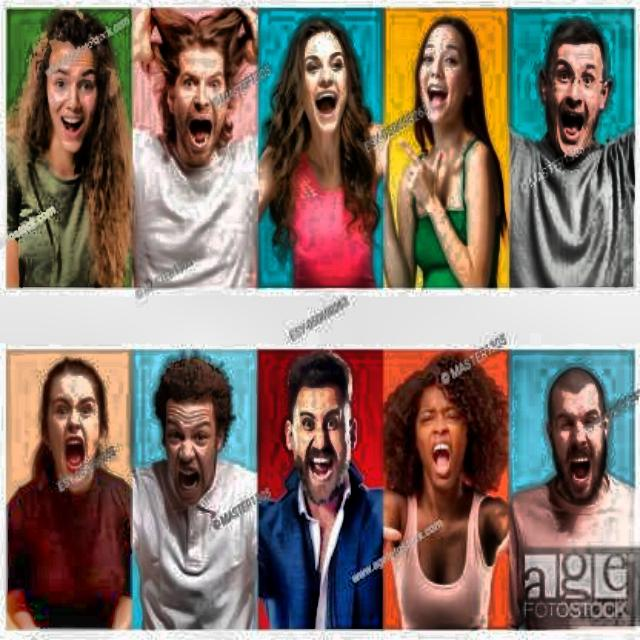angry: (387, 357, 510, 486), (145, 349, 240, 516), (28, 351, 123, 503), (539, 361, 617, 514)
happy: (142, 1, 255, 174), (525, 8, 632, 161), (277, 2, 375, 152)
surprised: (22, 4, 122, 176), (271, 350, 375, 506), (388, 8, 492, 141)
